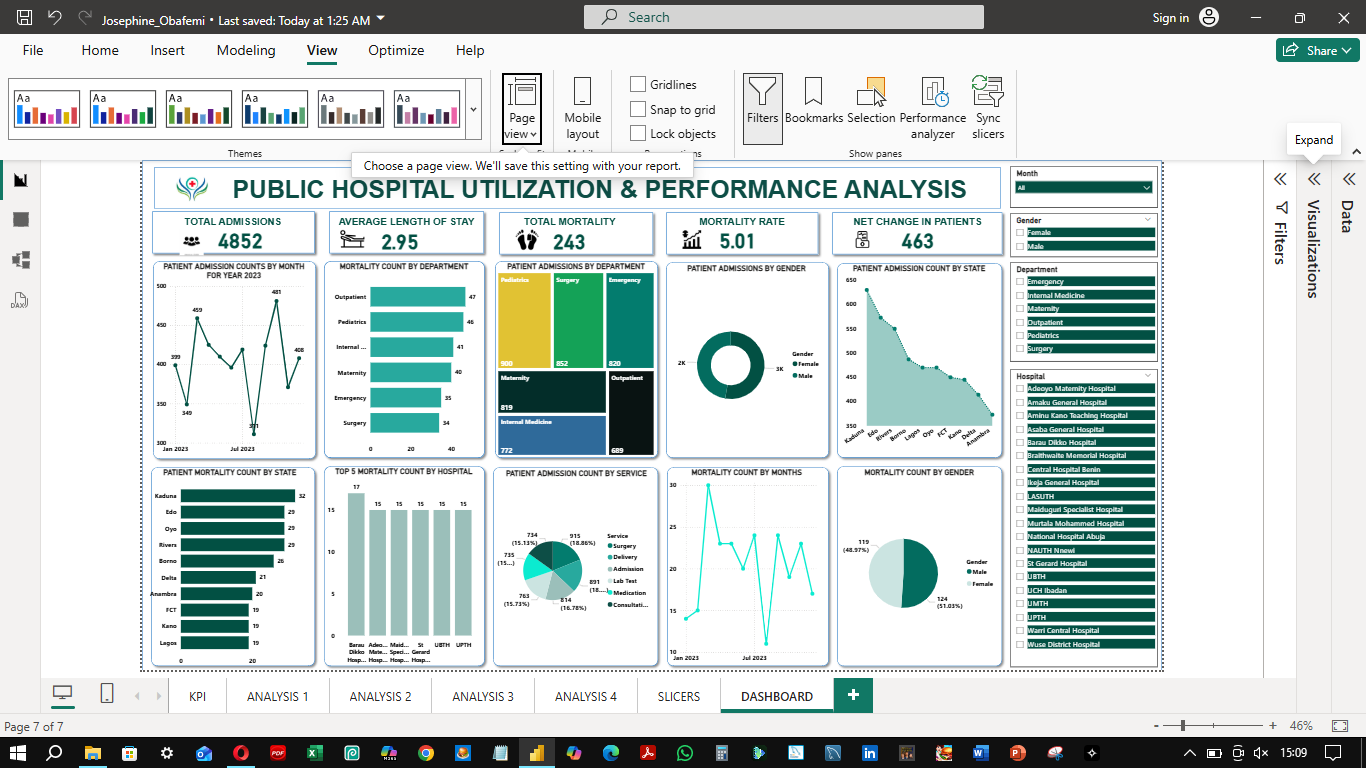

Layout of this report page (visuals, bound fields, positions):
{"tool":"powerbi","page":{"name":"DASHBOARD","canvas":[2200,1100],"ordinal":6},"visuals":[{"type":"shape","box":[0,0,2200,1400],"z":0},{"type":"shape","box":[26.2,14.3,1826.2,90.5],"z":1000},{"type":"shape","box":[1479,104,385,109],"z":2000},{"type":"shape","box":[14,101,369,109],"z":3000},{"type":"shape","box":[1121,103,346,109],"z":4000},{"type":"shape","box":[762,103,350,109],"z":5000},{"type":"shape","box":[395,102,352,109],"z":6000},{"type":"shape","box":[1490.3,212.9,373.8,437.6],"z":7000},{"type":"shape","box":[1490.3,650.5,373.8,449.5],"z":8000},{"type":"shape","box":[14.2,208.2,369,444.7],"z":9000},{"type":"shape","box":[11.8,652.9,371.4,447.1],"z":10000},{"type":"shape","box":[383.2,650.5,364.3,449.5],"z":11000},{"type":"shape","box":[747.5,652.9,373.8,447.1],"z":12000},{"type":"shape","box":[1123.7,652.9,366.7,447.1],"z":13000},{"type":"shape","box":[383.2,208.2,364.3,442.4],"z":14000},{"type":"shape","box":[752.3,208.2,369,442.4],"z":15000},{"type":"shape","box":[1121.3,210.5,369,440],"z":16000},{"type":"slicer","fields":{"Values":["Public_Hospital_Utilization_Dat.Gender"]},"box":[1872.9,113.5,318.8,94.8],"z":17000},{"type":"slicer","fields":{"Values":["Public_Hospital_Utilization_Dat.Hospital"]},"box":[1873,450,319,643],"z":18000},{"type":"slicer","fields":{"Values":["Public_Hospital_Utilization_Dat.Department"]},"box":[1872.9,219.8,318.8,214.6],"z":19000},{"type":"slicer","fields":{"Values":["Public_Hospital_Utilization_Dat.Month"]},"box":[1873,14,319,90],"z":20000},{"type":"card","fields":{"Values":["DATE TABLE.TOTAL ADMISSIONS"]},"box":[138,138,148,64],"z":21000},{"type":"card","fields":{"Values":["DATE TABLE.AVERAGE LENGTH OF STAY"]},"box":[493,137,125,68],"z":22000},{"type":"card","fields":{"Values":["DATE TABLE.TOTAL MORTALITY"]},"box":[853,140,139,62],"z":23000},{"type":"card","fields":{"Values":["DATE TABLE.MORTALITY RATE%"]},"box":[1208,137,153,64],"z":24000},{"type":"card","fields":{"Values":["DATE TABLE.NET CHANGE IN PATIENTS"]},"box":[1613,139,120,63],"z":25000},{"type":"lineChart","title":"PATIENT ADMISSION COUNTS BY MONTH FOR YEAR 2023","fields":{"Y":["Sum(Public_Hospital_Utilization_Dat.Patients Admitted)"],"Category":["Public_Hospital_Utilization_Dat.Month"]},"box":[26,220,345,421],"z":26000},{"type":"treemap","title":"PATIENT ADMISSIONS BY DEPARTMENT","fields":{"Group":["Public_Hospital_Utilization_Dat.Department"],"Values":["Sum(Public_Hospital_Utilization_Dat.Patients Admitted)"]},"box":[764.1,220,345.4,421.1],"z":27000},{"type":"donutChart","title":"PATIENT ADMISSIONS BY GENDER","fields":{"Category":["Public_Hospital_Utilization_Dat.Gender"],"Y":["Sum(Public_Hospital_Utilization_Dat.Patients Admitted)"]},"box":[1133,224,343,418],"z":28000},{"type":"areaChart","title":"PATIENT ADMISSION COUNT BY STATE","fields":{"Category":["Public_Hospital_Utilization_Dat.State"],"Y":["Sum(Public_Hospital_Utilization_Dat.Patients Admitted)"]},"box":[1502,224,350,414],"z":29000},{"type":"clusteredBarChart","title":"PATIENT MORTALITY COUNT BY STATE","fields":{"Category":["Public_Hospital_Utilization_Dat.State"],"Y":["Sum(Public_Hospital_Utilization_Dat.Mortality Count)"]},"box":[11.8,664.7,357.2,435.3],"z":30000},{"type":"pieChart","title":"PATIENT ADMISSION COUNT BY SERVICE","fields":{"Category":["Public_Hospital_Utilization_Dat.Service"],"Y":["Sum(Public_Hospital_Utilization_Dat.Patients Admitted)"]},"box":[762.5,666.7,346.9,419.8],"z":31000},{"type":"pieChart","title":"MORTALITY COUNT BY GENDER","fields":{"Y":["Sum(Public_Hospital_Utilization_Dat.Mortality Count)"],"Category":["Public_Hospital_Utilization_Dat.Gender"]},"box":[1502.2,664.7,350.1,435.3],"z":32000},{"type":"lineChart","title":"MORTALITY COUNT BY MONTHS","fields":{"Category":["Public_Hospital_Utilization_Dat.Month"],"Y":["Sum(Public_Hospital_Utilization_Dat.Mortality Count)"]},"box":[1130.8,664.7,347.7,428.2],"z":33000},{"type":"textbox","box":[189.6,28.1,1647.9,72.9],"z":34000},{"type":"clusteredBarChart","title":"MORTALITY COUNT BY DEPARTMENT","fields":{"Category":["Public_Hospital_Utilization_Dat.Department"],"Y":["Sum(Public_Hospital_Utilization_Dat.Mortality Count)"]},"box":[395.1,220,340.6,421.1],"z":35000},{"type":"columnChart","title":"TOP 5 MORTALITY COUNT BY HOSPITAL","fields":{"Category":["Public_Hospital_Utilization_Dat.Hospital"],"Y":["Sum(Public_Hospital_Utilization_Dat.Mortality Count)"]},"box":[395.1,662.4,340.6,430.5],"z":36000},{"type":"textbox","box":[85.4,115.6,254.2,35.4],"z":37000},{"type":"textbox","box":[412,116,317,35],"z":38000},{"type":"textbox","box":[772.9,115.6,301,35.4],"z":39000},{"type":"textbox","box":[1160.4,115.6,267.7,35.4],"z":40000},{"type":"textbox","box":[1522.9,116.7,300,40.6],"z":41000},{"type":"image","box":[42.6,18.9,130.1,87.5],"z":42000},{"type":"image","box":[57,144,102,66],"z":43000},{"type":"image","box":[422,139,62,63],"z":44000},{"type":"image","box":[801,142,60,59],"z":45000},{"type":"image","box":[1141,147,90,50],"z":46000},{"type":"image","box":[1511,147,83,50],"z":47000}]}

Visuals, with their boxes on the page's 2200x1100 design canvas (x1, y1, x2, y2). These are canvas units, not pixel positions in the 1366x768 screenshot, which may show the page scaled, cropped or inside an application window:
shape: <box>0,0,2200,1400</box>
shape: <box>26,14,1852,105</box>
shape: <box>1479,104,1864,213</box>
shape: <box>14,101,383,210</box>
shape: <box>1121,103,1467,212</box>
shape: <box>762,103,1112,212</box>
shape: <box>395,102,747,211</box>
shape: <box>1490,213,1864,650</box>
shape: <box>1490,650,1864,1100</box>
shape: <box>14,208,383,653</box>
shape: <box>12,653,383,1100</box>
shape: <box>383,650,748,1100</box>
shape: <box>748,653,1121,1100</box>
shape: <box>1124,653,1490,1100</box>
shape: <box>383,208,748,651</box>
shape: <box>752,208,1121,651</box>
shape: <box>1121,210,1490,650</box>
slicer - Public_Hospital_Utilization_Dat.Gender: <box>1873,114,2192,208</box>
slicer - Public_Hospital_Utilization_Dat.Hospital: <box>1873,450,2192,1093</box>
slicer - Public_Hospital_Utilization_Dat.Department: <box>1873,220,2192,434</box>
slicer - Public_Hospital_Utilization_Dat.Month: <box>1873,14,2192,104</box>
card - DATE TABLE.TOTAL ADMISSIONS: <box>138,138,286,202</box>
card - DATE TABLE.AVERAGE LENGTH OF STAY: <box>493,137,618,205</box>
card - DATE TABLE.TOTAL MORTALITY: <box>853,140,992,202</box>
card - DATE TABLE.MORTALITY RATE%: <box>1208,137,1361,201</box>
card - DATE TABLE.NET CHANGE IN PATIENTS: <box>1613,139,1733,202</box>
"PATIENT ADMISSION COUNTS BY MONTH FOR YEAR 2023" lineChart: <box>26,220,371,641</box>
"PATIENT ADMISSIONS BY DEPARTMENT" treemap: <box>764,220,1110,641</box>
"PATIENT ADMISSIONS BY GENDER" donutChart: <box>1133,224,1476,642</box>
"PATIENT ADMISSION COUNT BY STATE" areaChart: <box>1502,224,1852,638</box>
"PATIENT MORTALITY COUNT BY STATE" clusteredBarChart: <box>12,665,369,1100</box>
"PATIENT ADMISSION COUNT BY SERVICE" pieChart: <box>762,667,1109,1086</box>
"MORTALITY COUNT BY GENDER" pieChart: <box>1502,665,1852,1100</box>
"MORTALITY COUNT BY MONTHS" lineChart: <box>1131,665,1478,1093</box>
textbox: <box>190,28,1838,101</box>
"MORTALITY COUNT BY DEPARTMENT" clusteredBarChart: <box>395,220,736,641</box>
"TOP 5 MORTALITY COUNT BY HOSPITAL" columnChart: <box>395,662,736,1093</box>
textbox: <box>85,116,340,151</box>
textbox: <box>412,116,729,151</box>
textbox: <box>773,116,1074,151</box>
textbox: <box>1160,116,1428,151</box>
textbox: <box>1523,117,1823,157</box>
image: <box>43,19,173,106</box>
image: <box>57,144,159,210</box>
image: <box>422,139,484,202</box>
image: <box>801,142,861,201</box>
image: <box>1141,147,1231,197</box>
image: <box>1511,147,1594,197</box>
